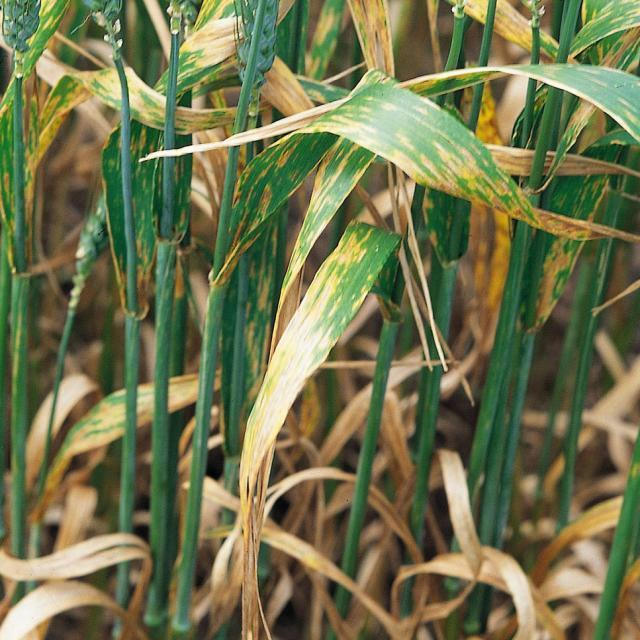wheat-septoria: (173, 71, 602, 238), (236, 225, 401, 537), (213, 133, 375, 303), (24, 68, 120, 157), (55, 390, 126, 464), (343, 0, 402, 79), (125, 69, 165, 132), (0, 107, 16, 229), (173, 107, 231, 134), (168, 375, 199, 415), (135, 384, 154, 430)
